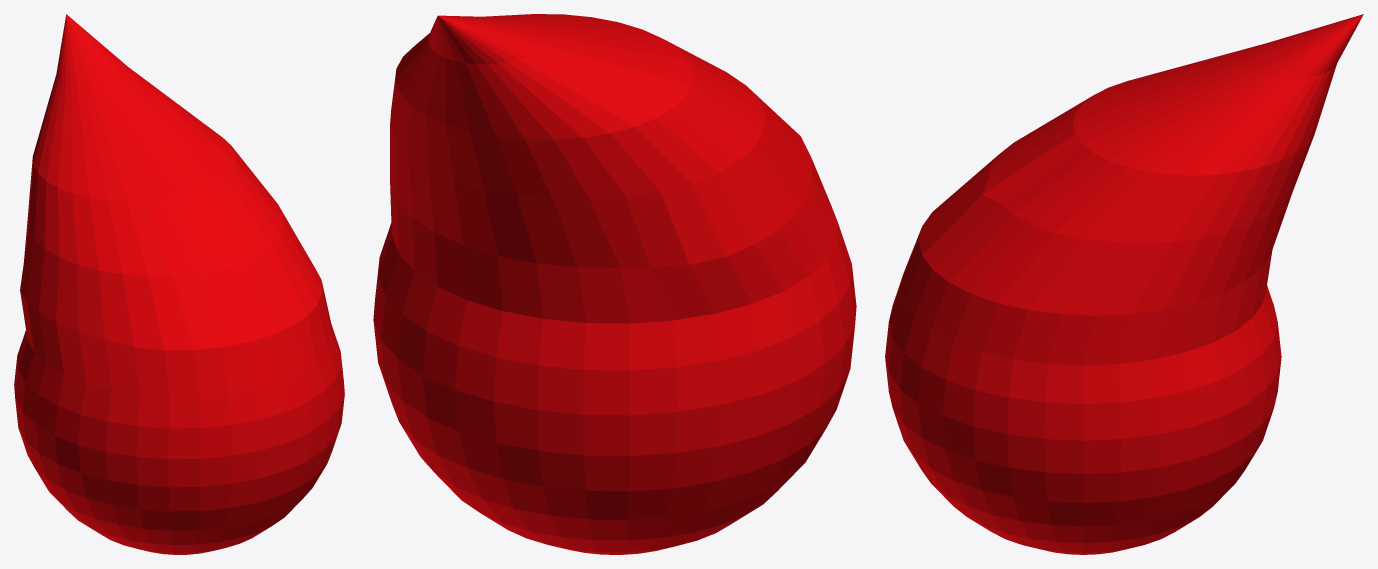
Rendered from AirAmmoPickup.fbx.
3 views of the same model, side by side, from view 1: azimuth 30°, elevation 25°; view 2: azimuth 150°, elevation 25°; view 3: azimuth 270°, elevation 25° (orthographic). The views are drawn at different scales.
Visible parts, largest first — view 1: Sphere.001; view 2: Sphere.001; view 3: Sphere.001.
Part boxes in pixels (x1=…): Sphere.001: x1=14, y1=14, x2=344, y2=554; Sphere.001: x1=373, y1=14, x2=856, y2=554; Sphere.001: x1=885, y1=14, x2=1363, y2=554.
Size of the model in its own units: 419 by 612 by 506.
